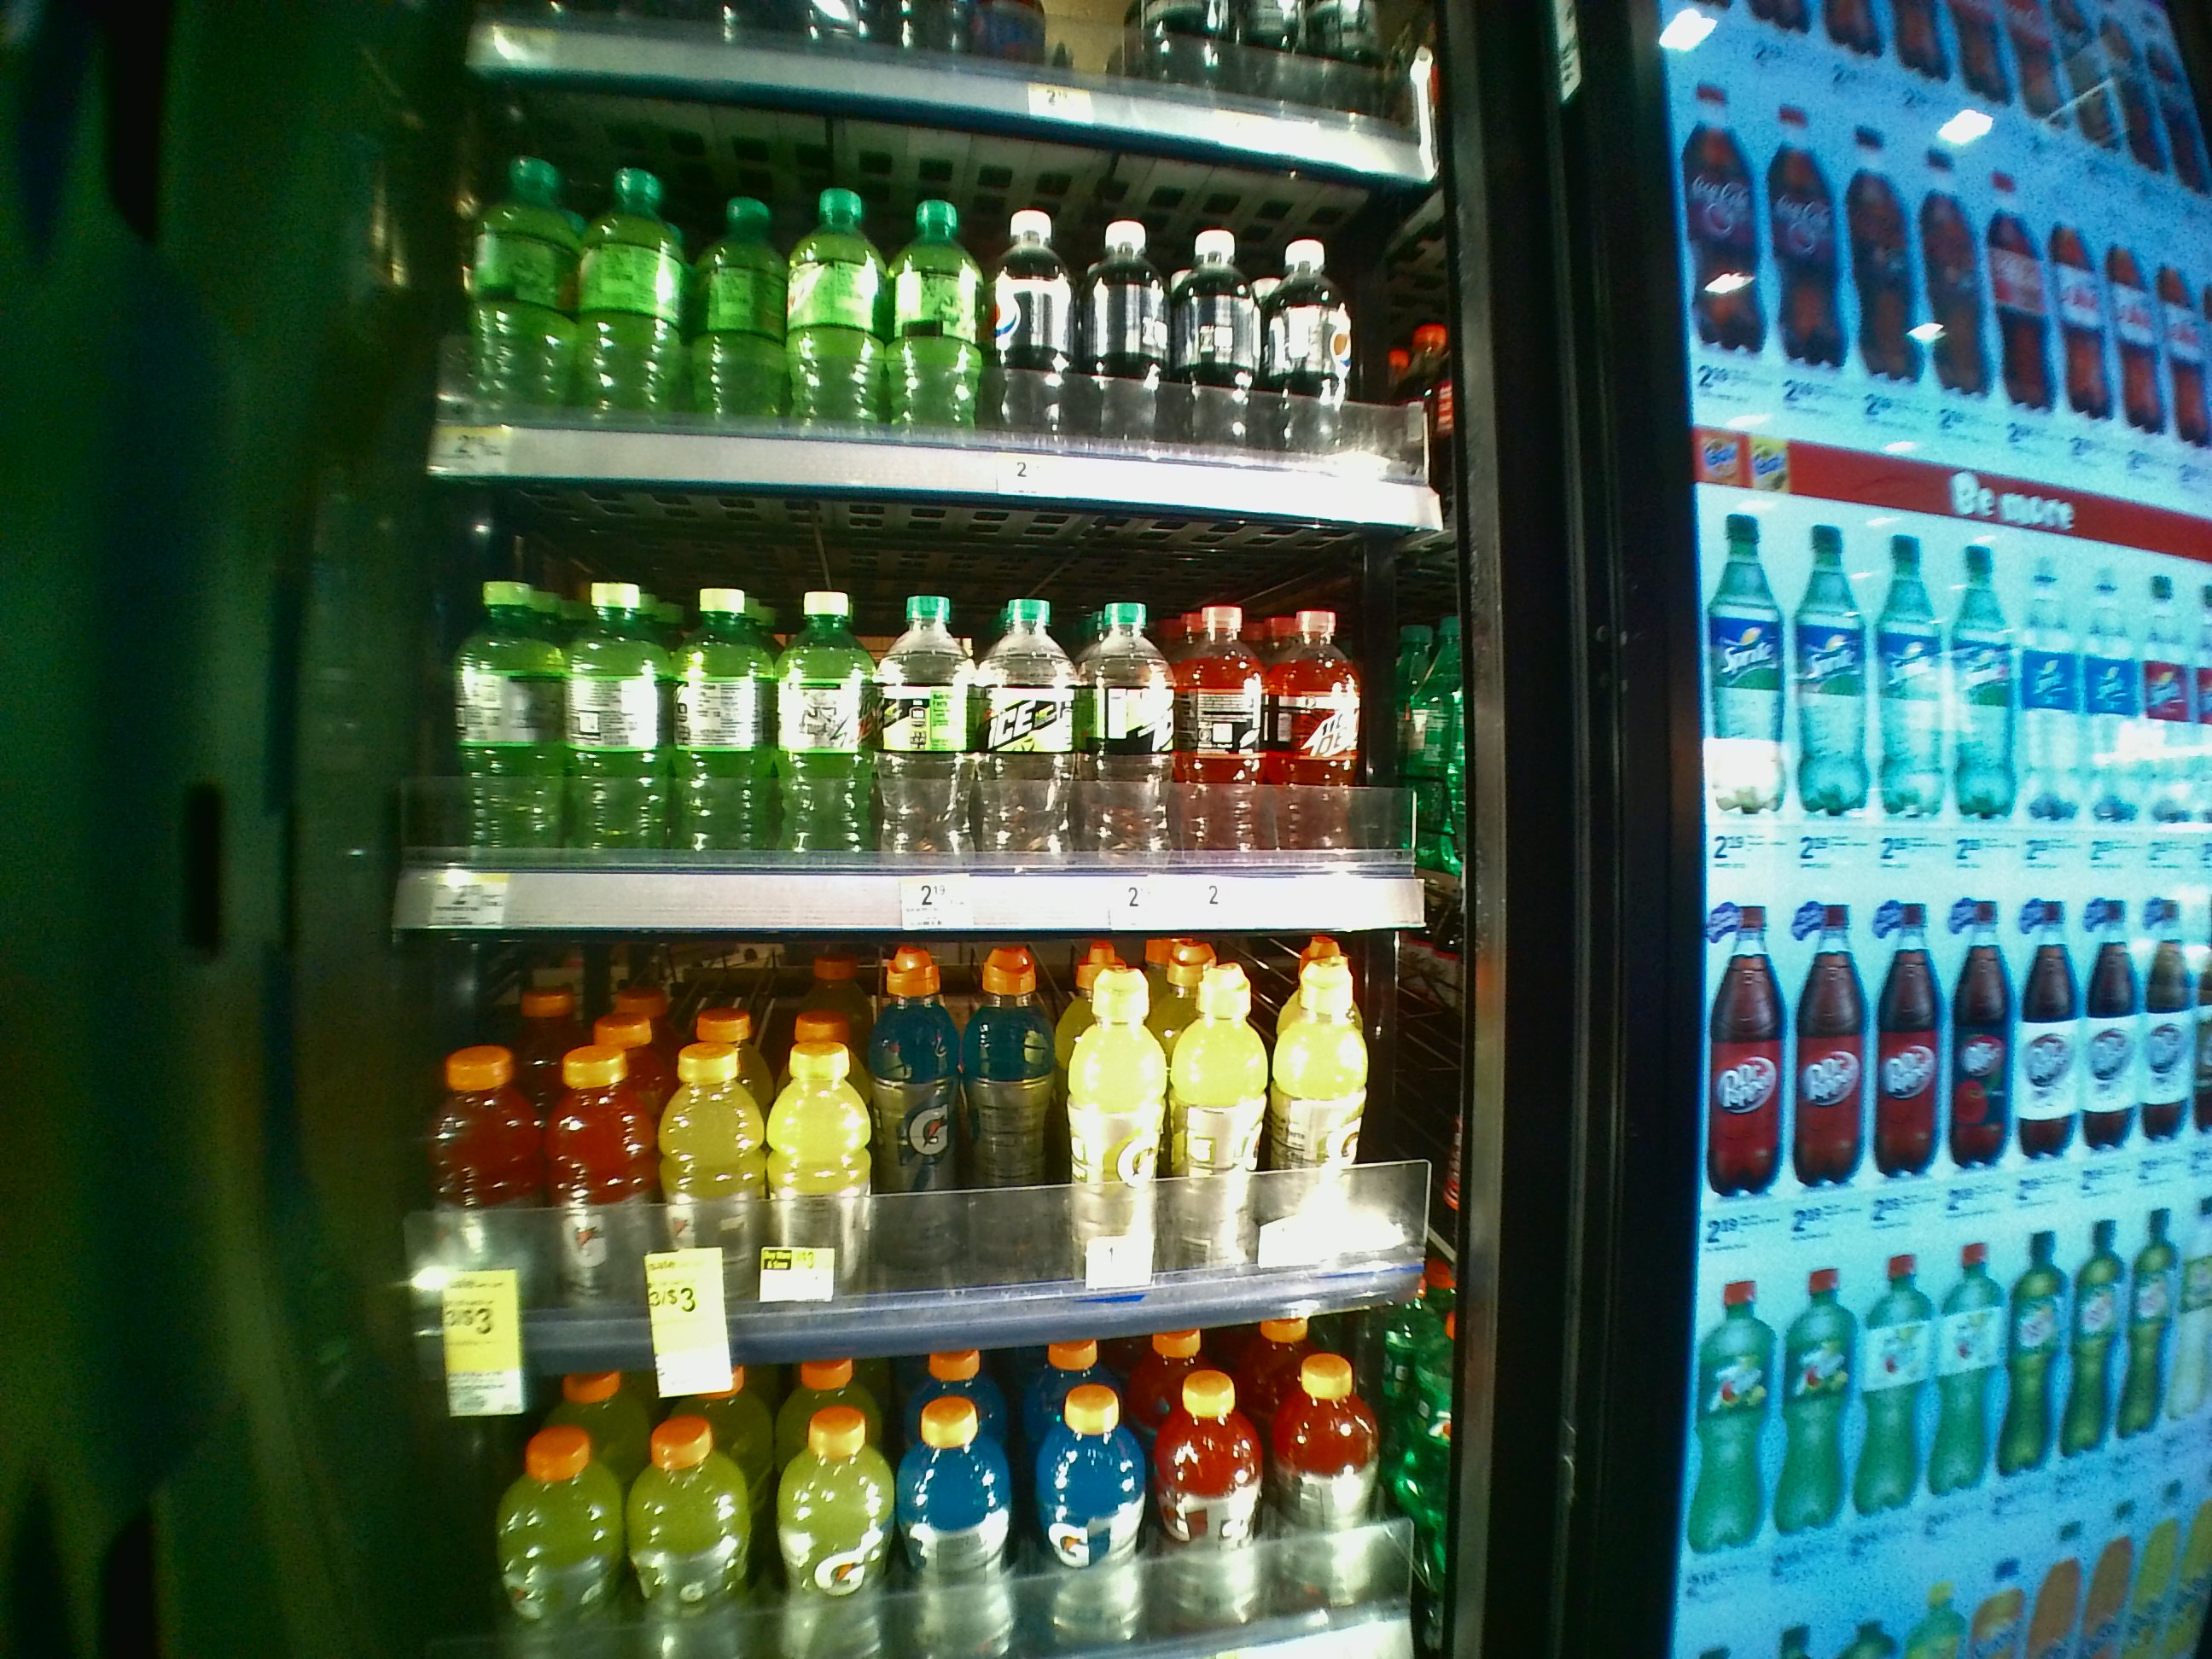shelf: (409, 467, 1486, 929), (387, 918, 1496, 1330)
